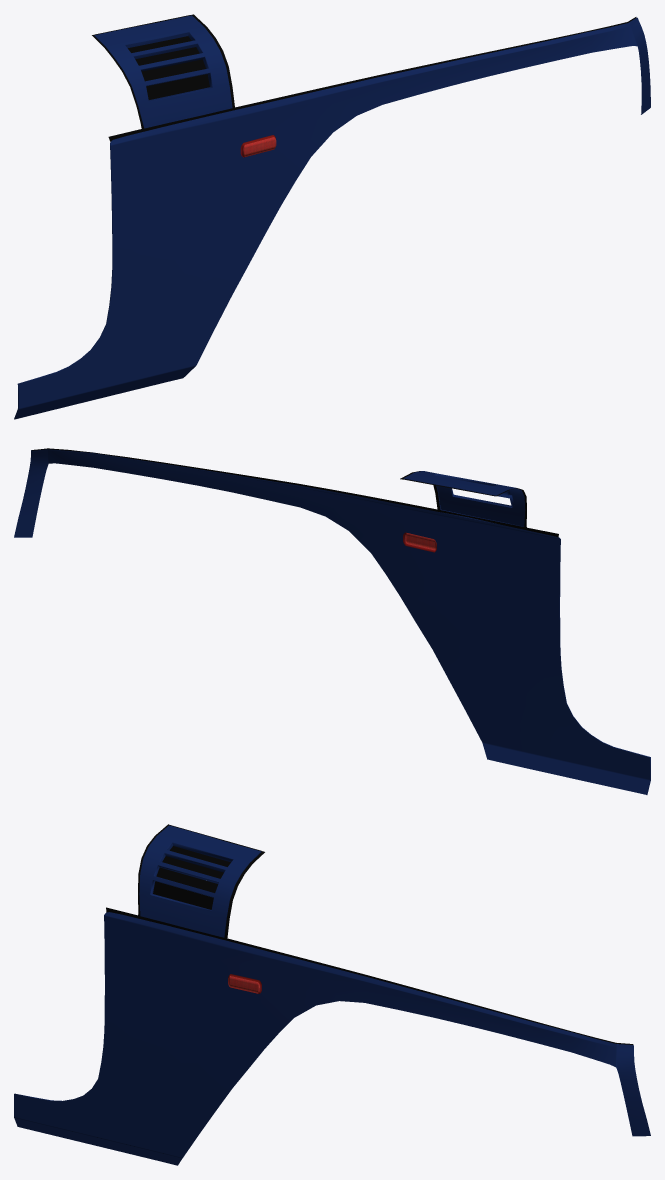
3 renders of one model, top to bottom at view 1: azimuth 30°, elevation 25°; view 2: azimuth 150°, elevation 25°; view 3: azimuth 330°, elevation 25°, orthographic. The views are drawn at different scales.
Parts seen in each view (by area): view 1: J715_8A_141B_R_1_DaS_J715_8A_141B_R, J715_8A_141B_R_J715_8A_141B_R_3_D, J715_8A_141B_R_1_DaS_J715_8A_141B_R_E; view 2: J715_8A_141B_R_1_DaS_J715_8A_141B_R, J715_8A_141B_R_J715_8A_141B_R_3_D, J715_8A_141B_R_1_DaS_J715_8A_141B_R_E; view 3: J715_8A_141B_R_1_DaS_J715_8A_141B_R, J715_8A_141B_R_J715_8A_141B_R_3_D, J715_8A_141B_R_1_DaS_J715_8A_141B_R_E.
Part boxes in pixels (left/top/right/bottom): J715_8A_141B_R_1_DaS_J715_8A_141B_R: left=14, top=15, right=650, bottom=419; J715_8A_141B_R_J715_8A_141B_R_3_D: left=92, top=14, right=636, bottom=141; J715_8A_141B_R_1_DaS_J715_8A_141B_R_E: left=14, top=18, right=641, bottom=419; J715_8A_141B_R_1_DaS_J715_8A_141B_R: left=14, top=449, right=650, bottom=794; J715_8A_141B_R_J715_8A_141B_R_3_D: left=31, top=448, right=558, bottom=537; J715_8A_141B_R_1_DaS_J715_8A_141B_R_E: left=14, top=450, right=650, bottom=794; J715_8A_141B_R_1_DaS_J715_8A_141B_R: left=14, top=825, right=650, bottom=1165; J715_8A_141B_R_J715_8A_141B_R_3_D: left=106, top=824, right=633, bottom=1044; J715_8A_141B_R_1_DaS_J715_8A_141B_R_E: left=14, top=842, right=632, bottom=1135.
Size of the model in its own units: 175 by 82.82 by 22.08.
